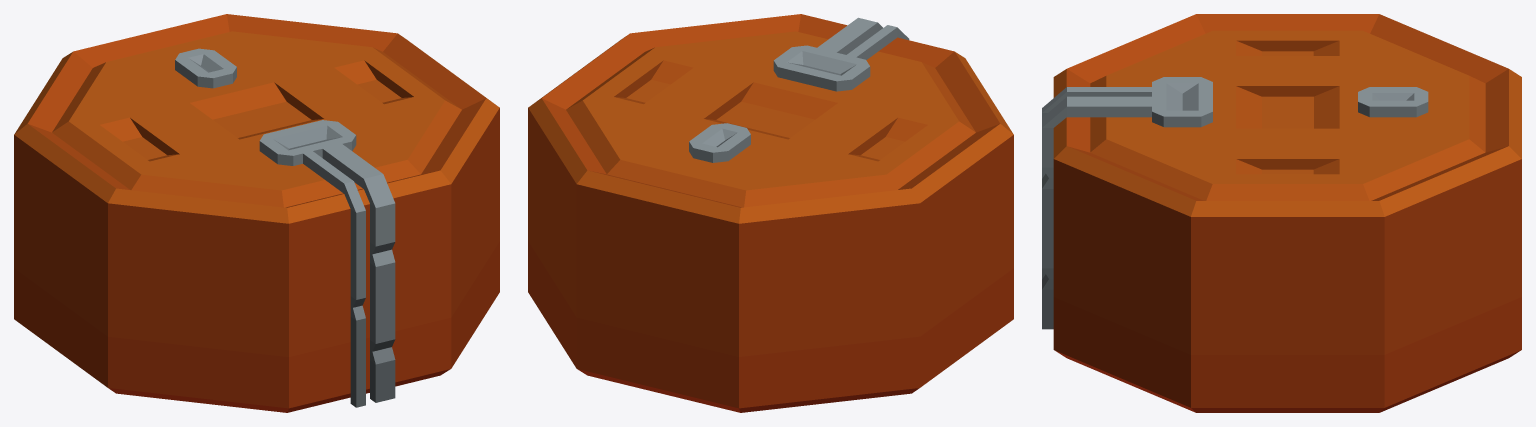
Rendered from kk_water_storage.obj.
3 views of the same model, side by side, from view 1: azimuth 30°, elevation 25°; view 2: azimuth 150°, elevation 25°; view 3: azimuth 270°, elevation 25° (orthographic). The views are drawn at different scales.
Bounding box in the file's own units: 15.24 × 8 × 15.62.
